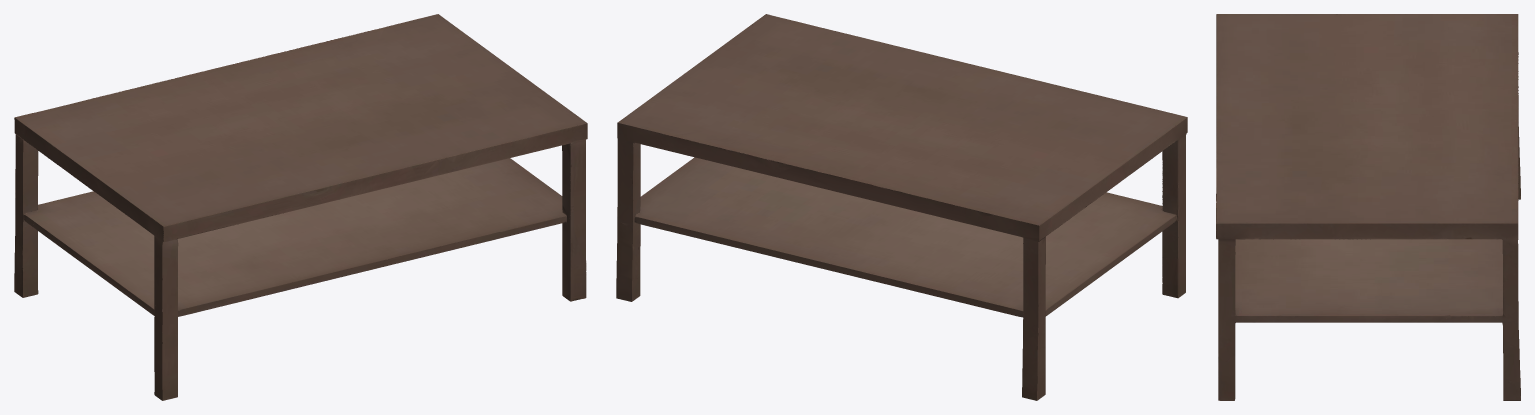
The model's file is ikea-lack-coffee-table-black-brown-46-1-2x30-3-4-00104291.glb.
The picture shows the model from 3 angles, left to right: view 1: azimuth 30°, elevation 25°; view 2: azimuth 150°, elevation 25°; view 3: azimuth 270°, elevation 25°; orthographic projection.
Parts seen in each view (by area): view 1: model; view 2: model; view 3: model.
Part boxes in pixels (x1,y1,x2,y2): model: [14, 14, 587, 400]; model: [616, 14, 1187, 400]; model: [1216, 14, 1520, 400].
Size of the model in its own units: 1.76 by 0.6952 by 1.08.
1 material, 1 textured.
